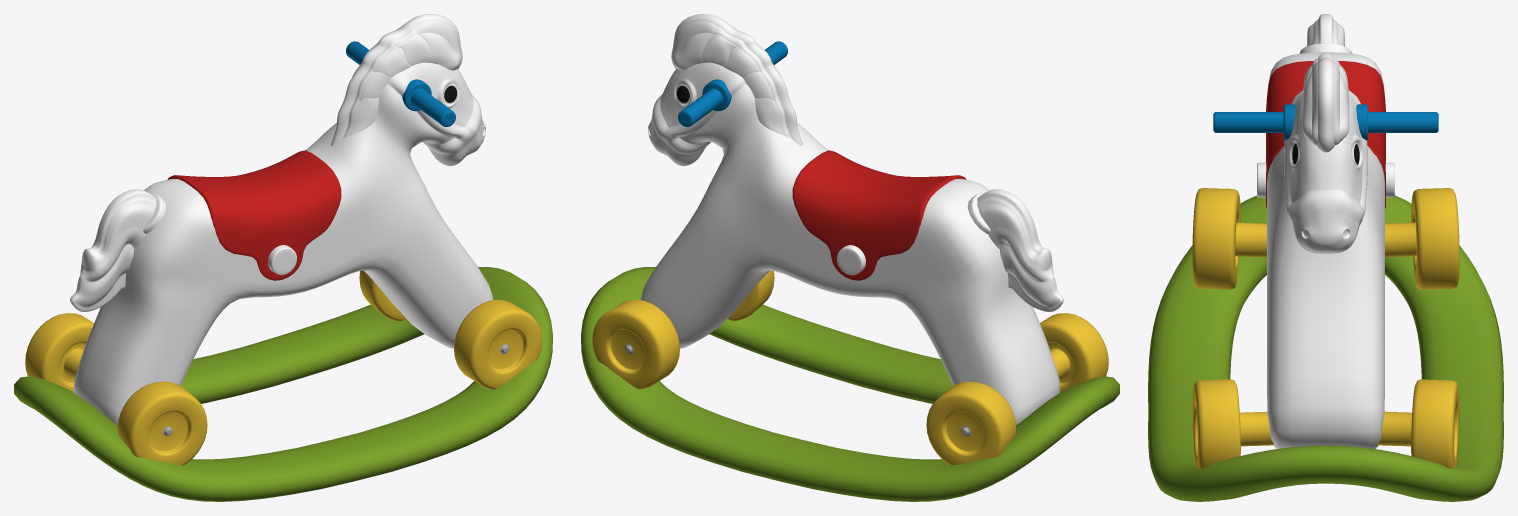
File: Toy+Horse.fbx
The picture shows the model from 3 angles, left to right: view 1: azimuth 30°, elevation 25°; view 2: azimuth 150°, elevation 25°; view 3: azimuth 270°, elevation 25°; orthographic projection. The views are drawn at different scales.
Visible parts, largest first — view 1: White matte plastic, green plastic, yellow plastic, red plastic, blue plastic; view 2: White matte plastic, green plastic, yellow plastic, red plastic, blue plastic; view 3: White matte plastic, green plastic, yellow plastic, red plastic, blue plastic.
Part boxes in pixels (bbox=[...]): White matte plastic: bbox=[70, 14, 493, 425]; green plastic: bbox=[14, 267, 552, 501]; yellow plastic: bbox=[25, 270, 541, 465]; red plastic: bbox=[167, 150, 341, 280]; blue plastic: bbox=[346, 41, 455, 126]; White matte plastic: bbox=[640, 14, 1063, 425]; green plastic: bbox=[581, 267, 1119, 501]; yellow plastic: bbox=[592, 270, 1108, 465]; red plastic: bbox=[792, 150, 966, 280]; blue plastic: bbox=[678, 41, 787, 126]; White matte plastic: bbox=[1257, 14, 1394, 448]; green plastic: bbox=[1148, 195, 1503, 501]; yellow plastic: bbox=[1192, 188, 1459, 468]; red plastic: bbox=[1266, 61, 1385, 208]; blue plastic: bbox=[1213, 104, 1438, 140].
Size of the model in its own units: 62.85 by 47.07 by 33.93.
Materials: 7 (7 with a texture image).
